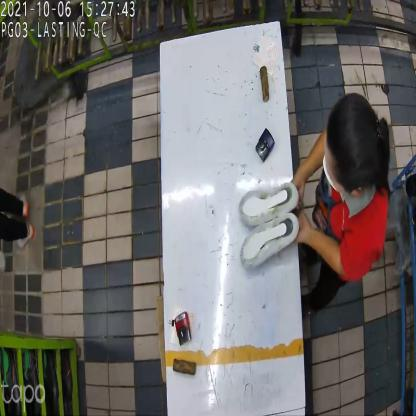shoes: (239, 184, 300, 270)
stamp: (173, 312, 195, 344), (254, 127, 274, 162)
